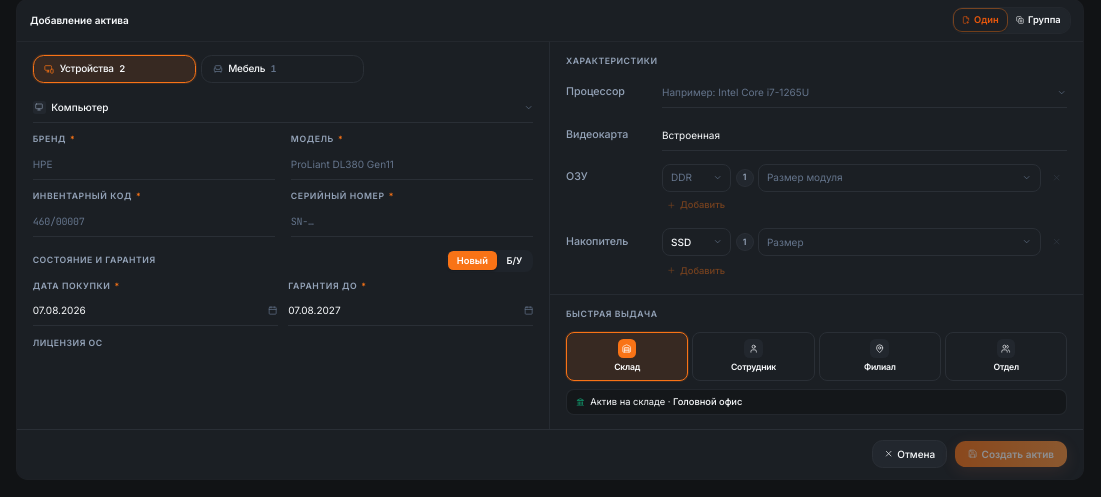
Test: AssetCreateForm — default category auto-selection on mount › switching to a non-OEM category (Монитор) HIDES the license section
The width and height of the screenshot is (1101, 497).
Expected: the text "Лицензия ОС" is shown, left=33, top=338, right=103, bottom=348
Click the dropdown named "Категория": (80, 107) left=33, top=93, right=533, bottom=123
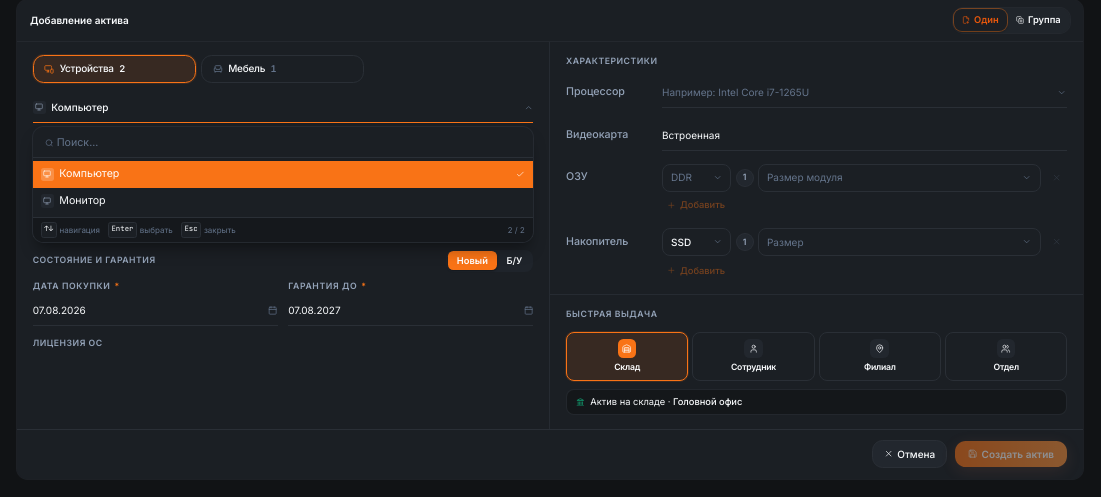
Click the option "Монитор": (82, 200) left=33, top=188, right=533, bottom=214
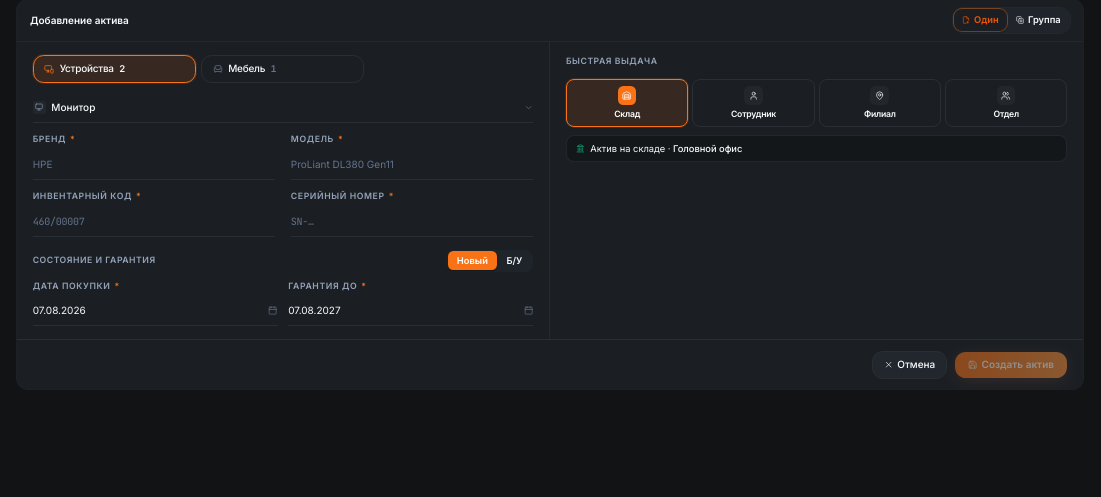
Now the text "Лицензия ОС" is gone
Now the text "Характеристики" is gone
